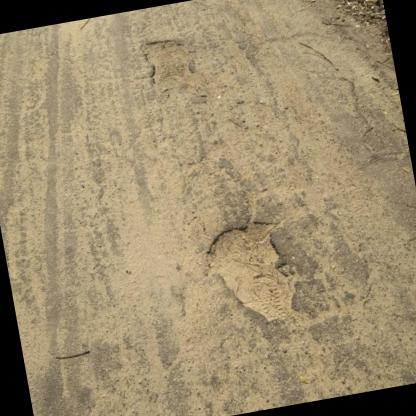pothole: (198, 209, 308, 333), (139, 31, 203, 96)
